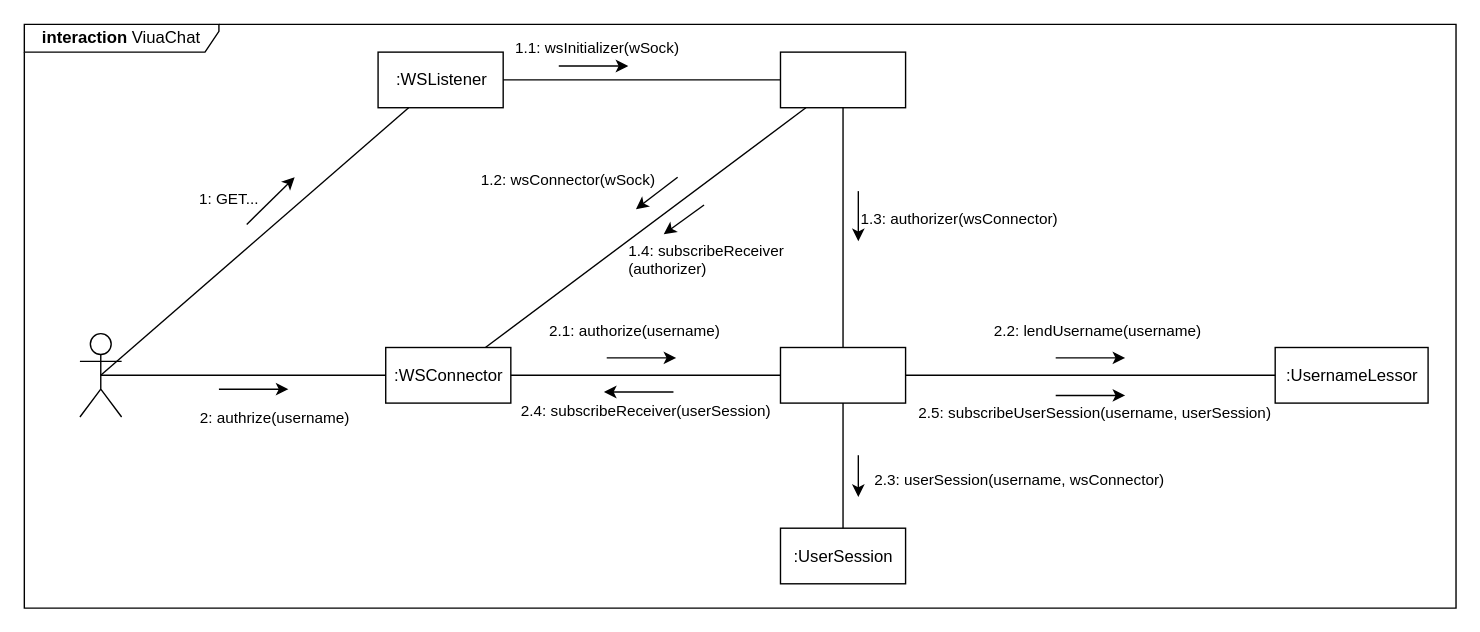
This 1480x632 diagram has some shape labels left out. Here are the shapes that lost their labels. From the top down, the box of each, then its label:
(779, 51, 906, 108): :WSInitializer
(79, 332, 122, 417): Actor
(779, 346, 906, 403): :Authorizer
